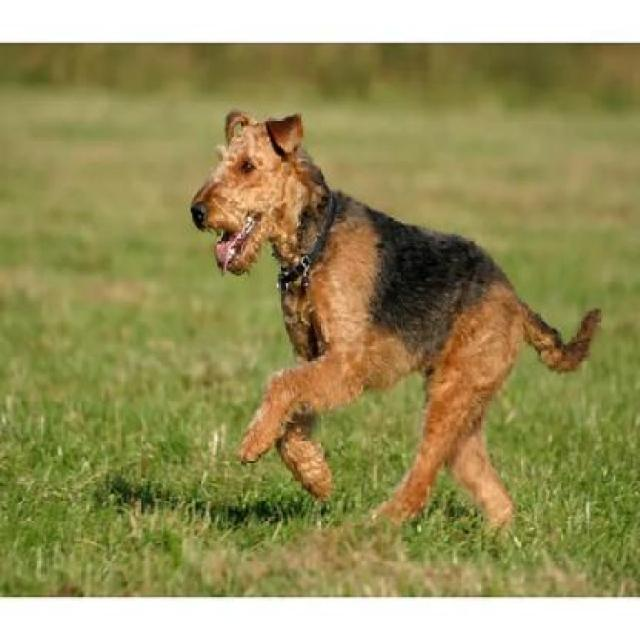animals: (186, 94, 596, 532)
